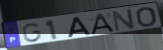1: (45, 19, 59, 41)
A: (90, 12, 116, 36), (67, 16, 92, 39)
G: (21, 22, 43, 43)
N: (112, 7, 137, 33)
O: (135, 6, 158, 28)
